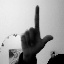l: (20, 4, 54, 61)
